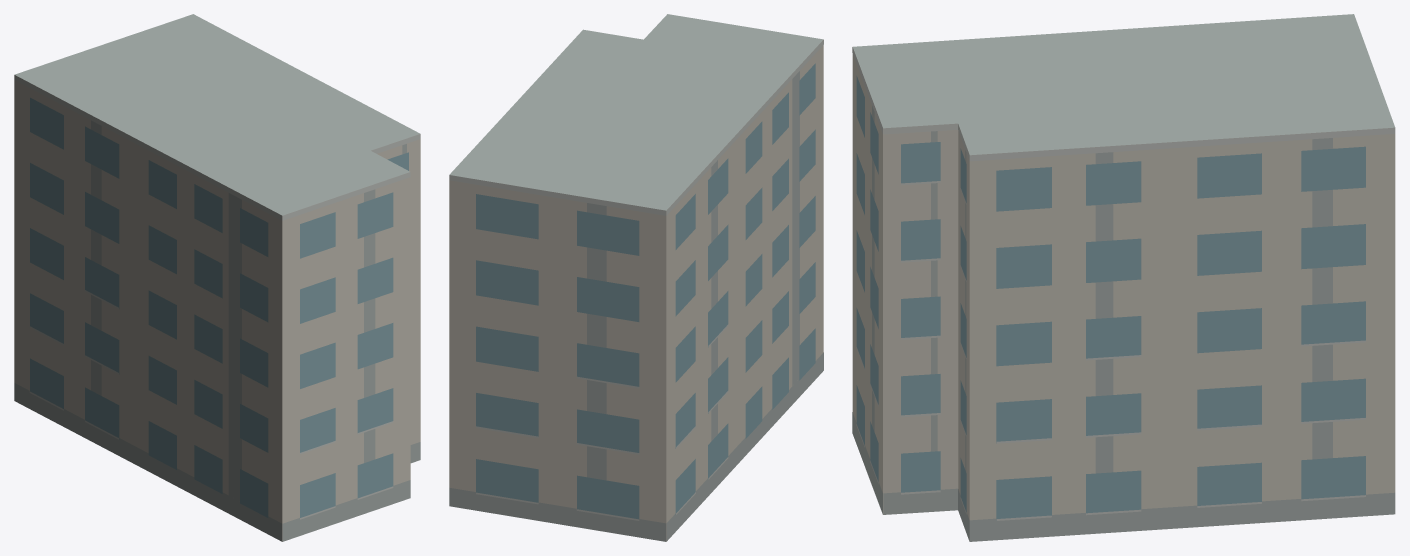
The model's file is survey-upis-32810007.glb.
The picture shows the model from 3 angles, left to right: view 1: azimuth 30°, elevation 25°; view 2: azimuth 150°, elevation 25°; view 3: azimuth 270°, elevation 25°; orthographic projection. The views are drawn at different scales.
Visible parts, largest first — view 1: survey-upis-32810007.tmp; view 2: survey-upis-32810007.tmp; view 3: survey-upis-32810007.tmp.
Boxes of the visible parts, <box> form: survey-upis-32810007.tmp: <box>14,14,420,541</box>; survey-upis-32810007.tmp: <box>449,14,823,541</box>; survey-upis-32810007.tmp: <box>852,14,1395,541</box>.
Size of the model in its own units: 11.92 by 15.2 by 19.35.
